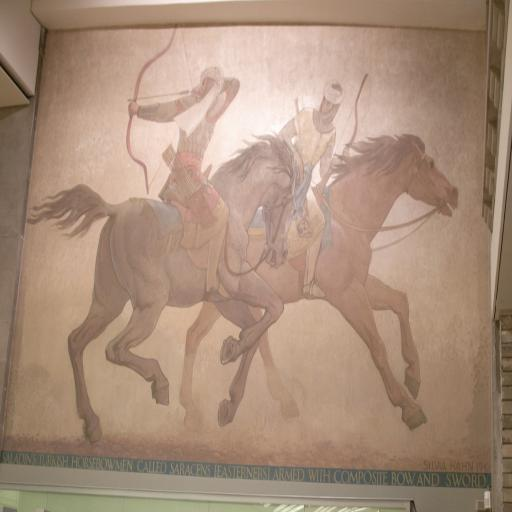horse: (24, 130, 303, 446), (177, 130, 459, 434)
